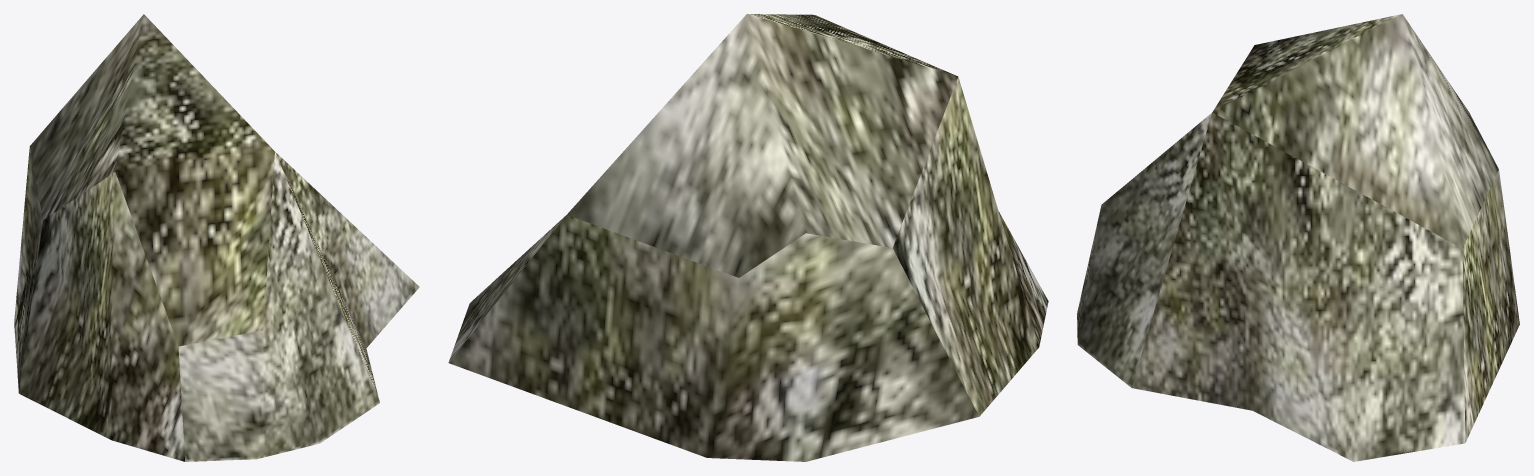
File: stone_granite_la_g.glb
3 views of the same model, side by side, from view 1: azimuth 30°, elevation 25°; view 2: azimuth 150°, elevation 25°; view 3: azimuth 270°, elevation 25° (orthographic). The views are drawn at different scales.
Parts seen in each view (by area): view 1: stone_granite_la_g; view 2: stone_granite_la_g; view 3: stone_granite_la_g.
Part boxes in pixels (x1,y1,x2,y2): stone_granite_la_g: (14,14,419,461); stone_granite_la_g: (448,14,1048,461); stone_granite_la_g: (1077,14,1519,461).
Size of the model in its own units: 2.91 by 2.15 by 2.67.
1 material, 1 textured.
